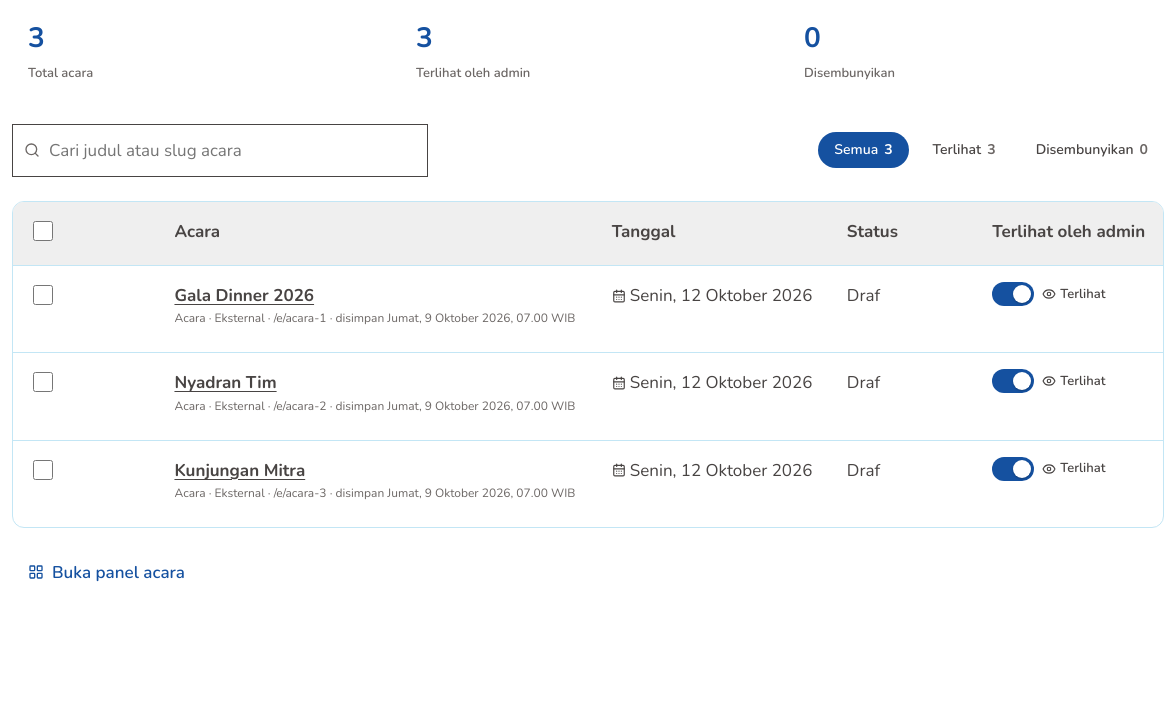
Scenario: hides and shows several selected events at once
Click the checkbox named "Pilih Gala Dinner 2026".
click(43, 295)  # box [33,285,53,305]
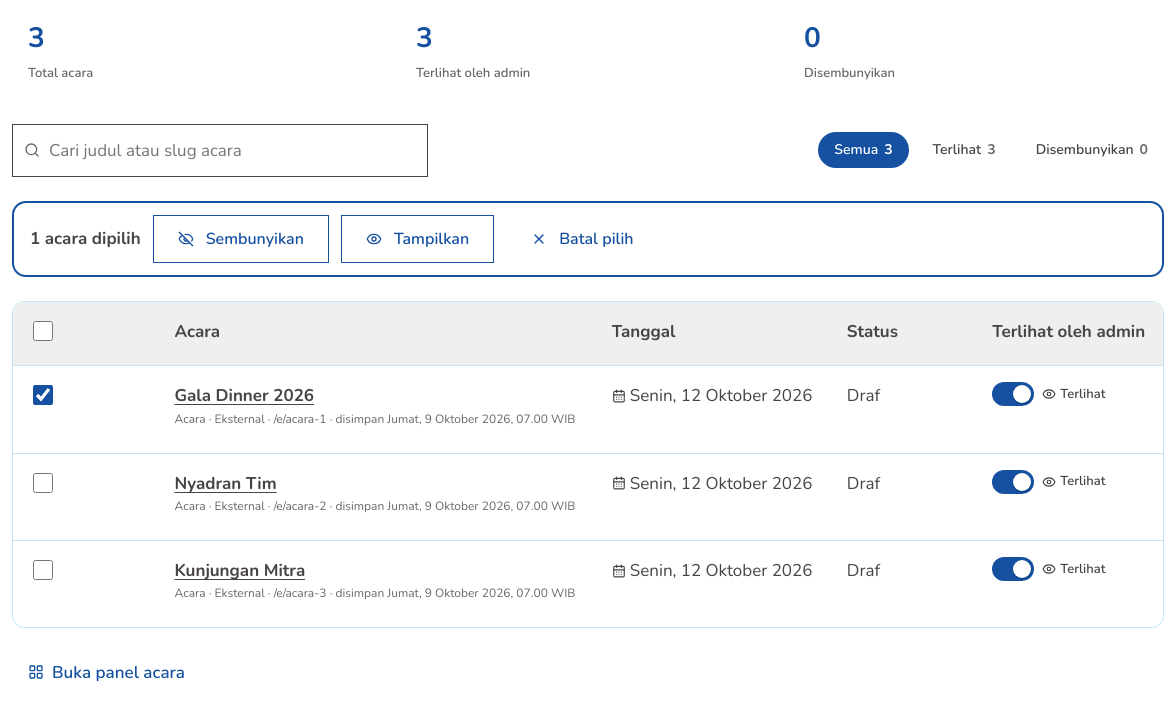
Click the checkbox named "Pilih Kunjungan Mitra".
click(43, 570)  # box [33,560,53,580]
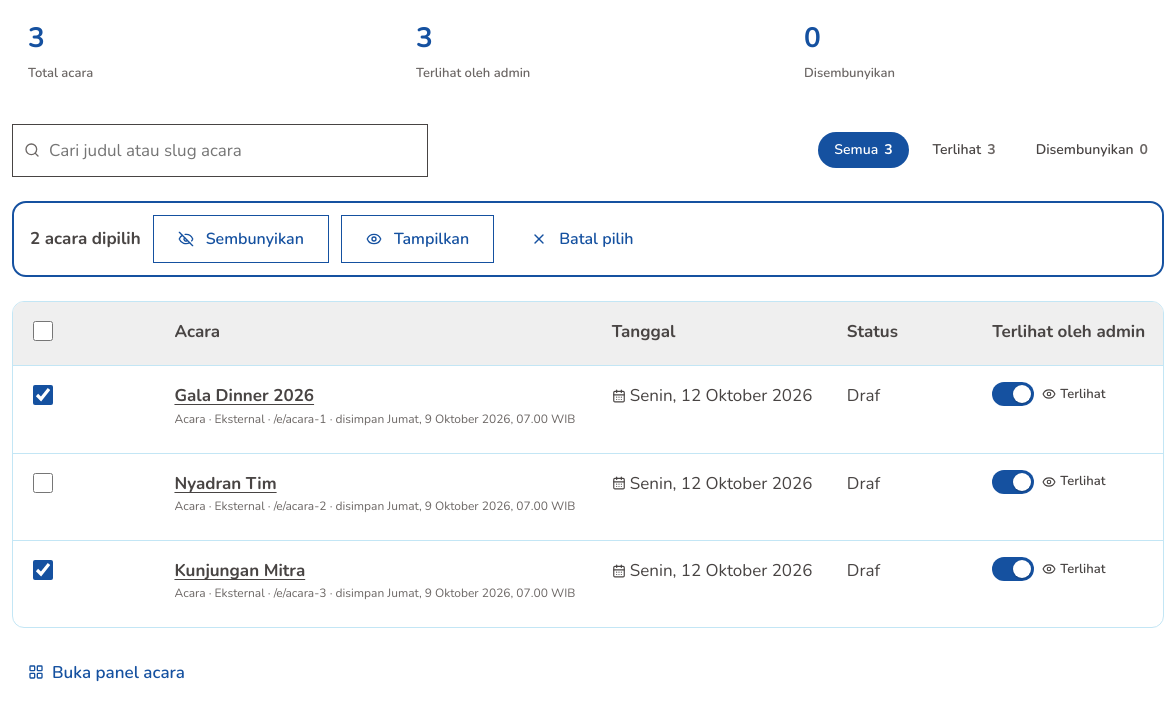
Result: the element named "Aksi untuk acara terpilih" shows "2 acara dipilih" at [12,201,1164,277]
Click the button "Sembunyikan".
click(241, 239)  # box [153,215,329,263]
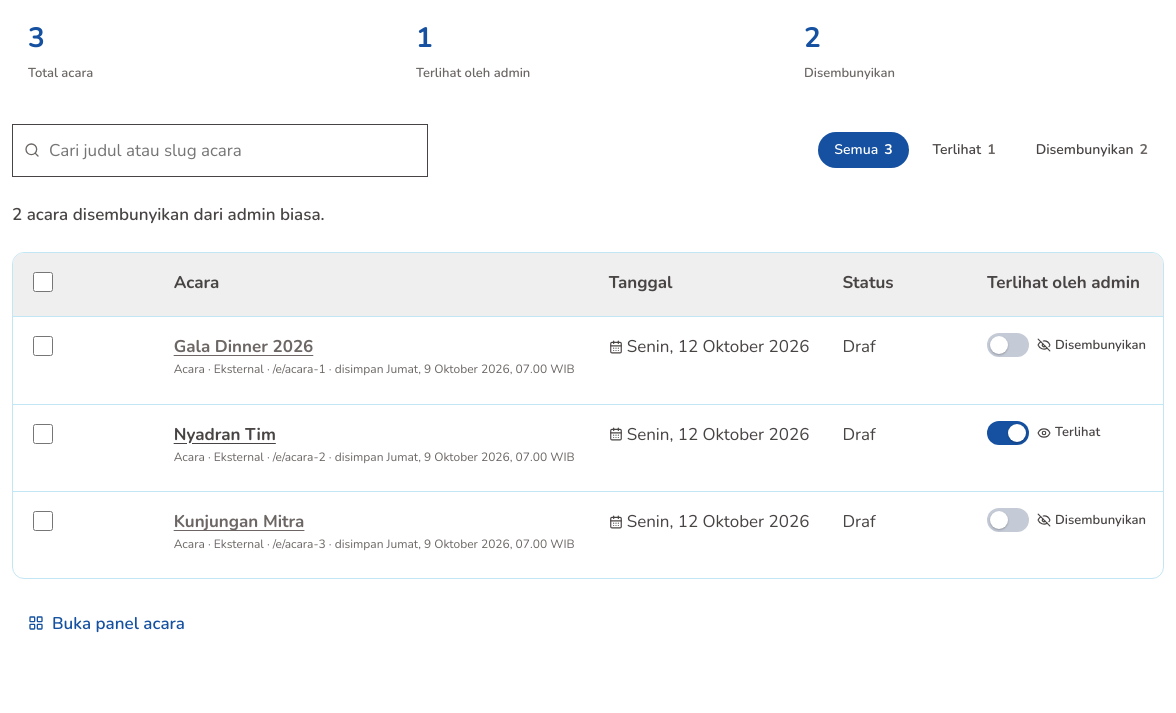
Result: the text "2 acara disembunyikan dari admin biasa." is shown at [12,203,325,226]
Click the checkbox named "Pilih semua yang tampil".
click(43, 282)  # box [33,272,53,292]
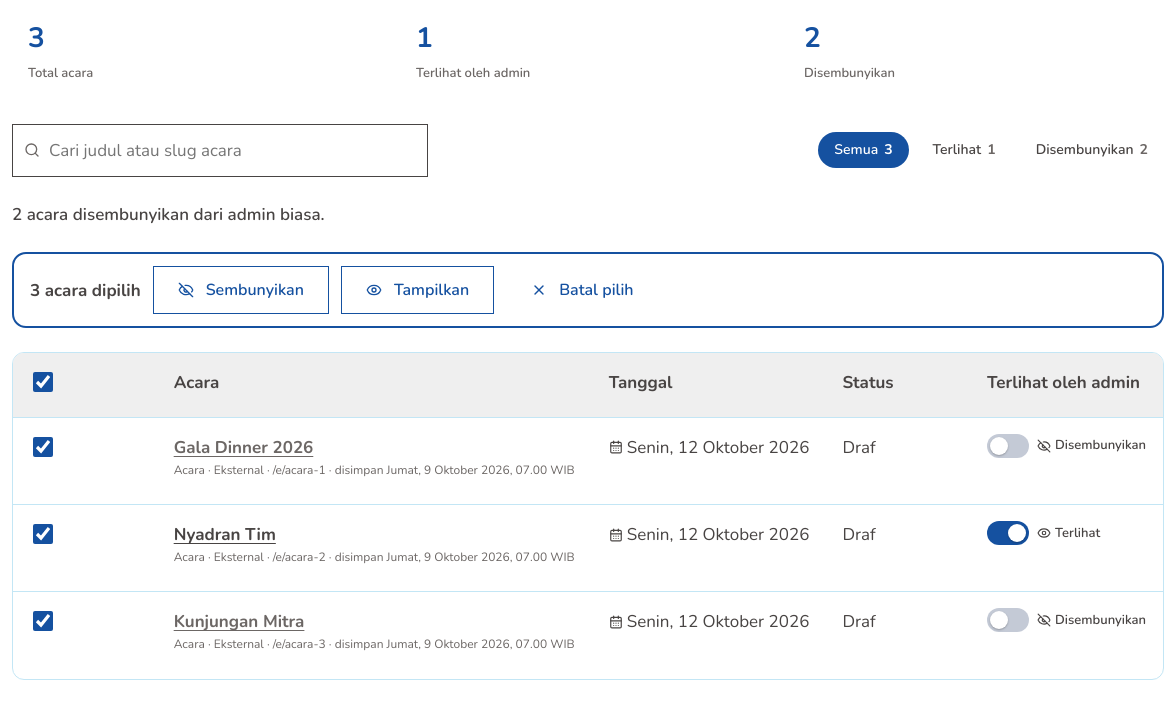
Click the button "Tampilkan".
click(418, 290)  # box [341,266,494,314]
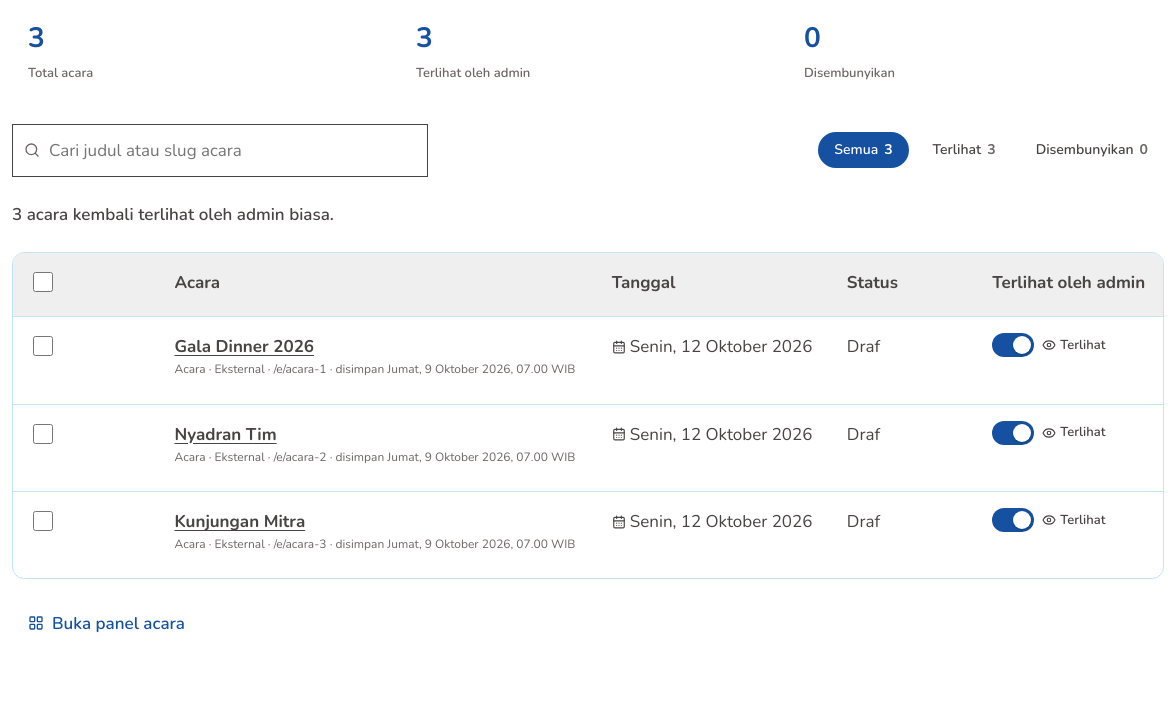
Result: the text "3 acara kembali terlihat oleh admin biasa." is shown at [12,203,334,226]
